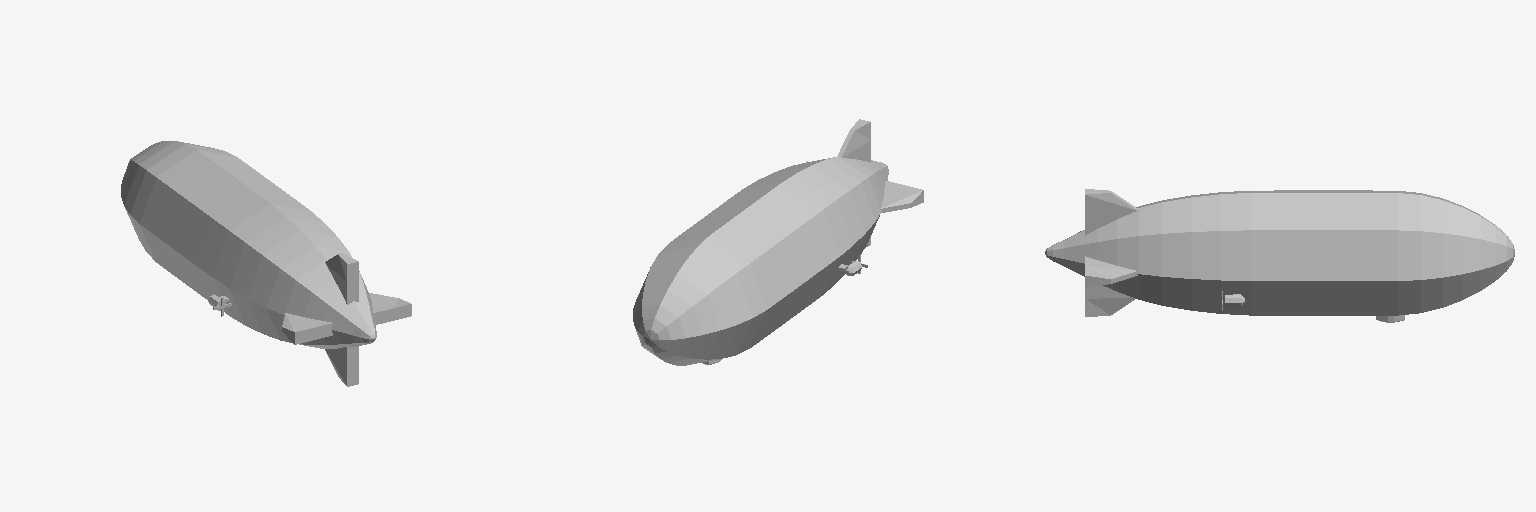
Rendered from Zeplin.obj.
3 renders of one model, left to right at view 1: azimuth 30°, elevation 25°; view 2: azimuth 150°, elevation 25°; view 3: azimuth 270°, elevation 25°, orthographic.
Parts seen in each view (by area): view 1: Capsule, Cube, Cube.1; view 2: Capsule, Cube, Cube.1; view 3: Capsule, Cube, Cube.1.
Part boxes in pixels (left/top/right/bottom): Capsule: left=121, top=141, right=376, bottom=348; Cube: left=325, top=253, right=358, bottom=386; Cube.1: left=282, top=293, right=411, bottom=344; Capsule: left=633, top=156, right=888, bottom=365; Cube: left=837, top=119, right=870, bottom=247; Cube.1: left=806, top=161, right=923, bottom=212; Capsule: left=1045, top=190, right=1514, bottom=315; Cube: left=1085, top=189, right=1137, bottom=316; Cube.1: left=1085, top=256, right=1137, bottom=287.
Size of the model in its own units: 123 by 106 by 353.